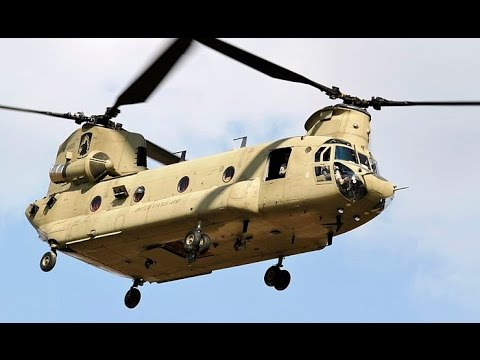MilitaryHelicopter: (22, 87, 425, 273)
